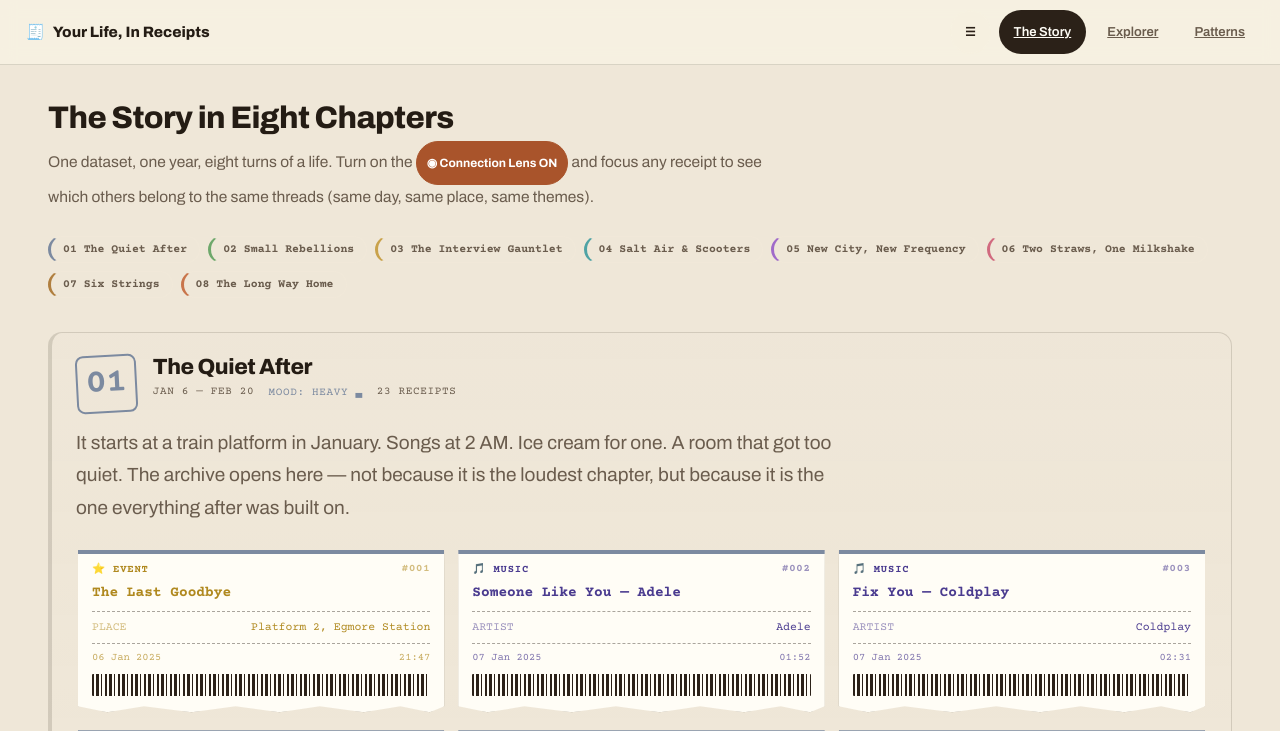
Test: accessibility contract › renders the compact navigation toggle on small viewports
The width and height of the screenshot is (1280, 731).
Click the button named "navigation menu" at coordinates (970, 32), box [950, 10, 991, 54]
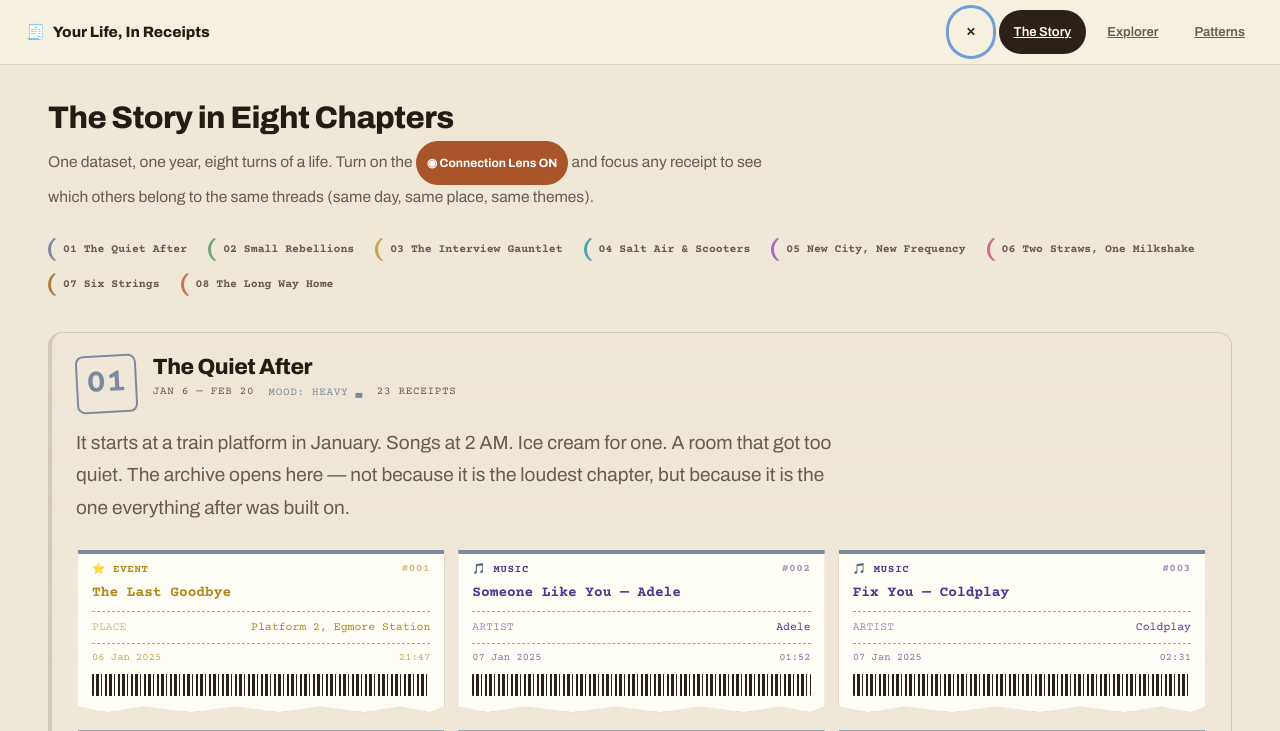
expect the button named "navigation menu" is expanded: met, box [951, 10, 991, 54]
